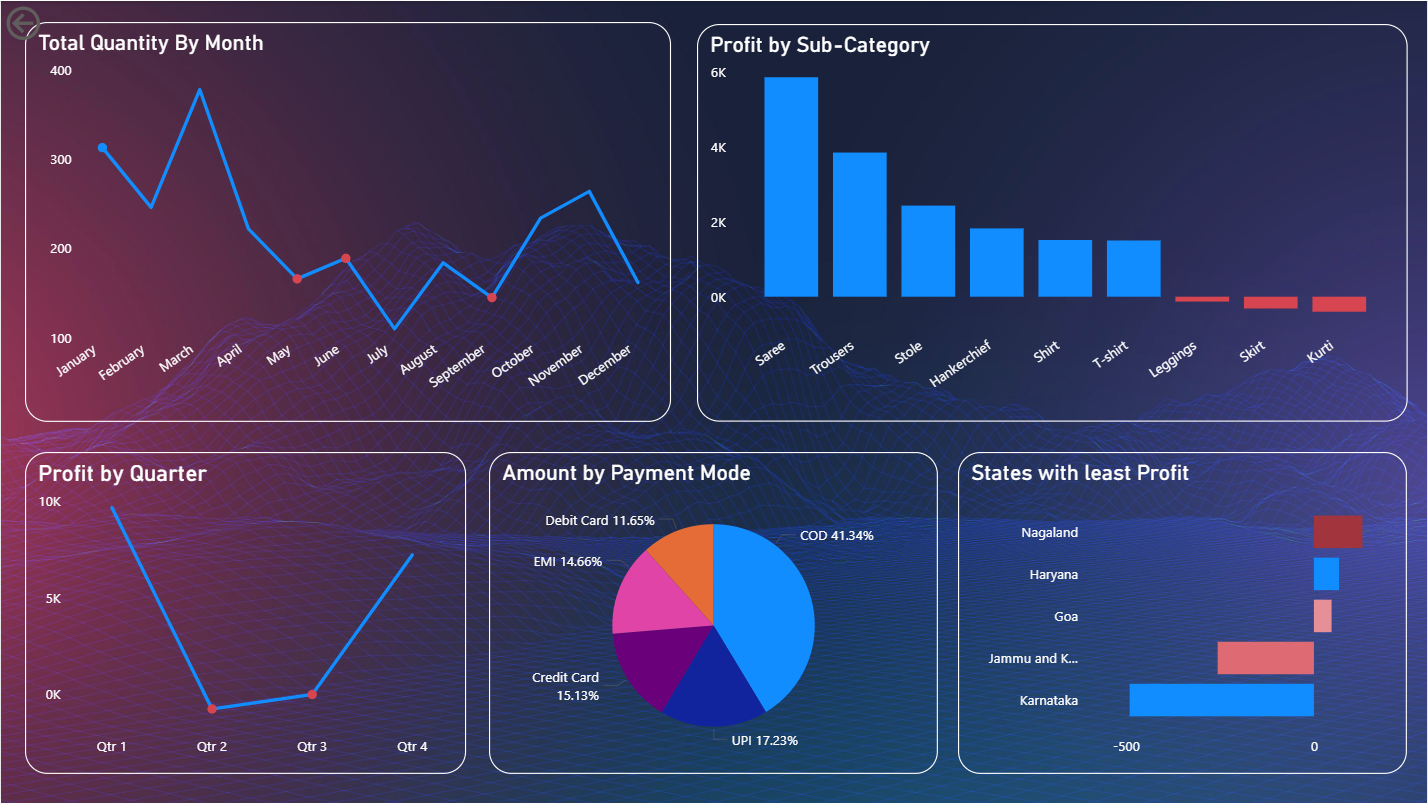

The page's visual inventory and layout, read from the dashboard file:
{"tool":"powerbi","page":{"name":"Page 2","canvas":[1280,720],"ordinal":1},"visuals":[{"type":"columnChart","title":"Profit by Sub-Category","fields":{"Y":["Sum(Orderss.Profit)"],"Category":["Orderss.Sub-Category"]},"box":[624.5,20.2,638.3,357.4],"z":0},{"type":"clusteredBarChart","title":"States with least Profit","fields":{"Category":["Castomer.State"],"Y":["Sum(Orderss.Profit)"]},"box":[859.1,405.3,403,289.4],"z":1000},{"type":"pieChart","title":"Amount by Payment Mode","fields":{"Category":["Orderss.PaymentMode"],"Y":["Sum(Orderss.Amount)"]},"box":[438.3,405.3,403.2,289.4],"z":2000},{"type":"lineChart","title":"Total Quantity By Month","fields":{"Category":["Castomer.Order Date.Variation.Date Hierarchy.Month"],"Y":["Sum(Orderss.Quantity)"]},"box":[21.3,19.1,579.8,358.5],"z":3000},{"type":"actionButton","box":[0,0,100,40],"z":4000},{"type":"lineChart","title":"Profit by Quarter","fields":{"Category":["Castomer.Order Date.Variation.Date Hierarchy.Quarter"],"Y":["Sum(Orderss.Profit)"]},"box":[21.3,405.3,395.7,289.4],"z":5000}]}

Visuals, with their boxes in screenshot pixels (x1, y1, x2, y2), scaled from the page's 1280x720 canvas onto the 1428x803 screenshot:
"Profit by Sub-Category" columnChart: {"x1": 697, "y1": 23, "x2": 1409, "y2": 421}
"States with least Profit" clusteredBarChart: {"x1": 958, "y1": 452, "x2": 1408, "y2": 775}
"Amount by Payment Mode" pieChart: {"x1": 489, "y1": 452, "x2": 939, "y2": 775}
"Total Quantity By Month" lineChart: {"x1": 24, "y1": 21, "x2": 671, "y2": 421}
actionButton: {"x1": 0, "y1": 0, "x2": 112, "y2": 45}
"Profit by Quarter" lineChart: {"x1": 24, "y1": 452, "x2": 465, "y2": 775}
